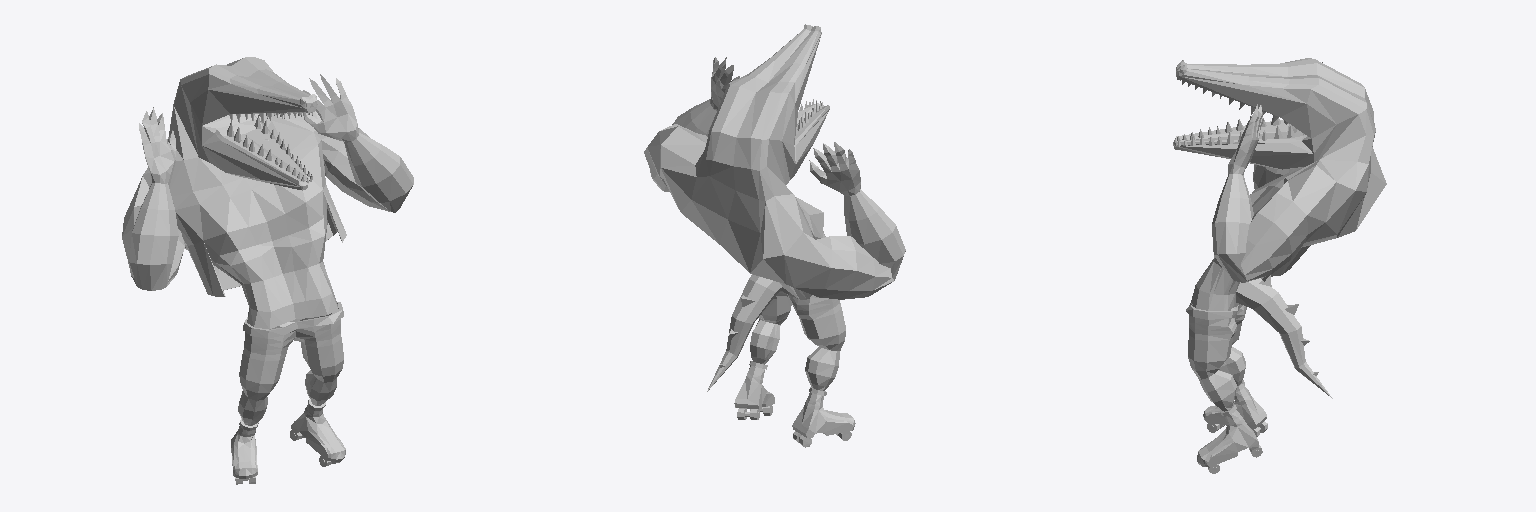
Rendered from cocodrilaBonesSelect_000010.obj.
The picture shows the model from 3 angles: view 1: azimuth 30°, elevation 25°; view 2: azimuth 150°, elevation 25°; view 3: azimuth 270°, elevation 25°; orthographic projection.
Parts seen in each view (by area): view 1: Crocodile.002_Cylinder.002; view 2: Crocodile.002_Cylinder.002; view 3: Crocodile.002_Cylinder.002.
Boxes of the visible parts, <box> form: Crocodile.002_Cylinder.002: <box>122,57,413,484</box>; Crocodile.002_Cylinder.002: <box>644,24,905,447</box>; Crocodile.002_Cylinder.002: <box>1173,58,1386,473</box>.
Bounding box in the file's own units: 4.65 × 6.59 × 3.28.